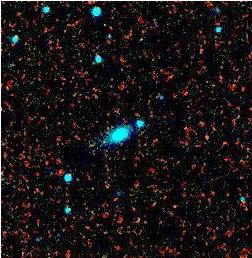star: (91, 130, 121, 160)
